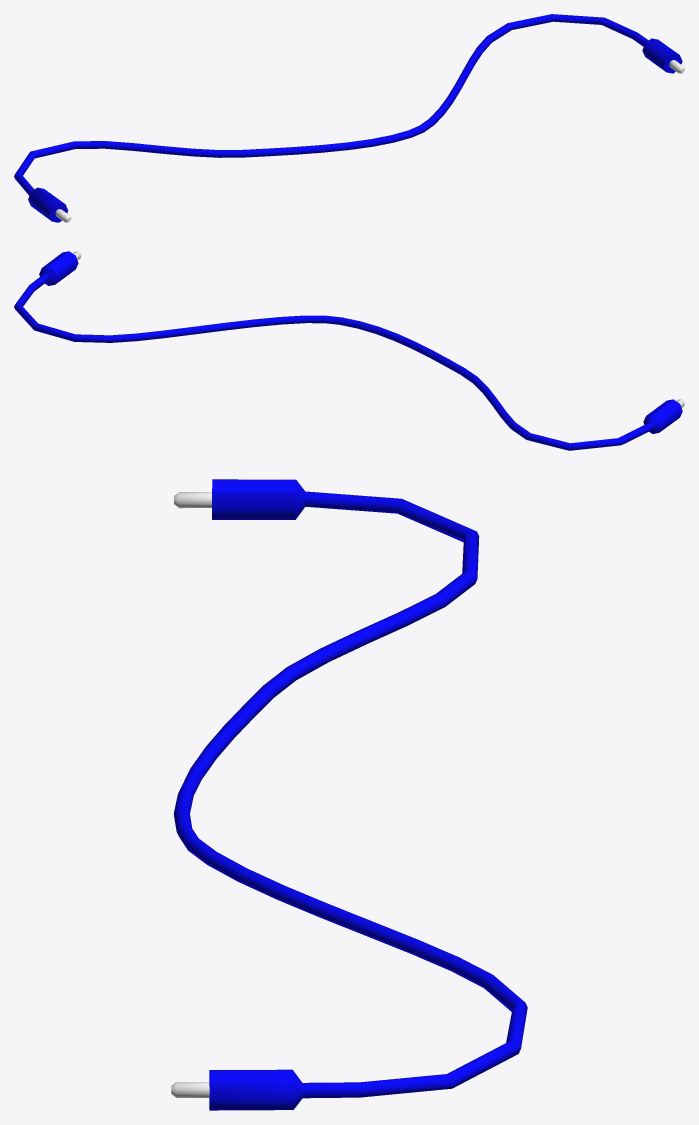
Rendered from ElectroWires09_3.FBX.
3 renders of one model, top to bottom at view 1: azimuth 30°, elevation 25°; view 2: azimuth 150°, elevation 25°; view 3: azimuth 270°, elevation 25°, orthographic. The views are drawn at different scales.
Parts seen in each view (by area): view 1: Wires09; view 2: Wires09; view 3: Wires09.
Boxes of the visible parts, left/top/right/bottom form: Wires09: left=14, top=14, right=684, bottom=222; Wires09: left=14, top=251, right=684, bottom=450; Wires09: left=171, top=479, right=527, bottom=1110.
Bounding box in the file's own units: 92.14 × 2.77 × 22.81.
